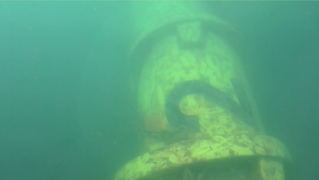2: (165, 77, 261, 133)
pipe: (114, 1, 290, 180)
